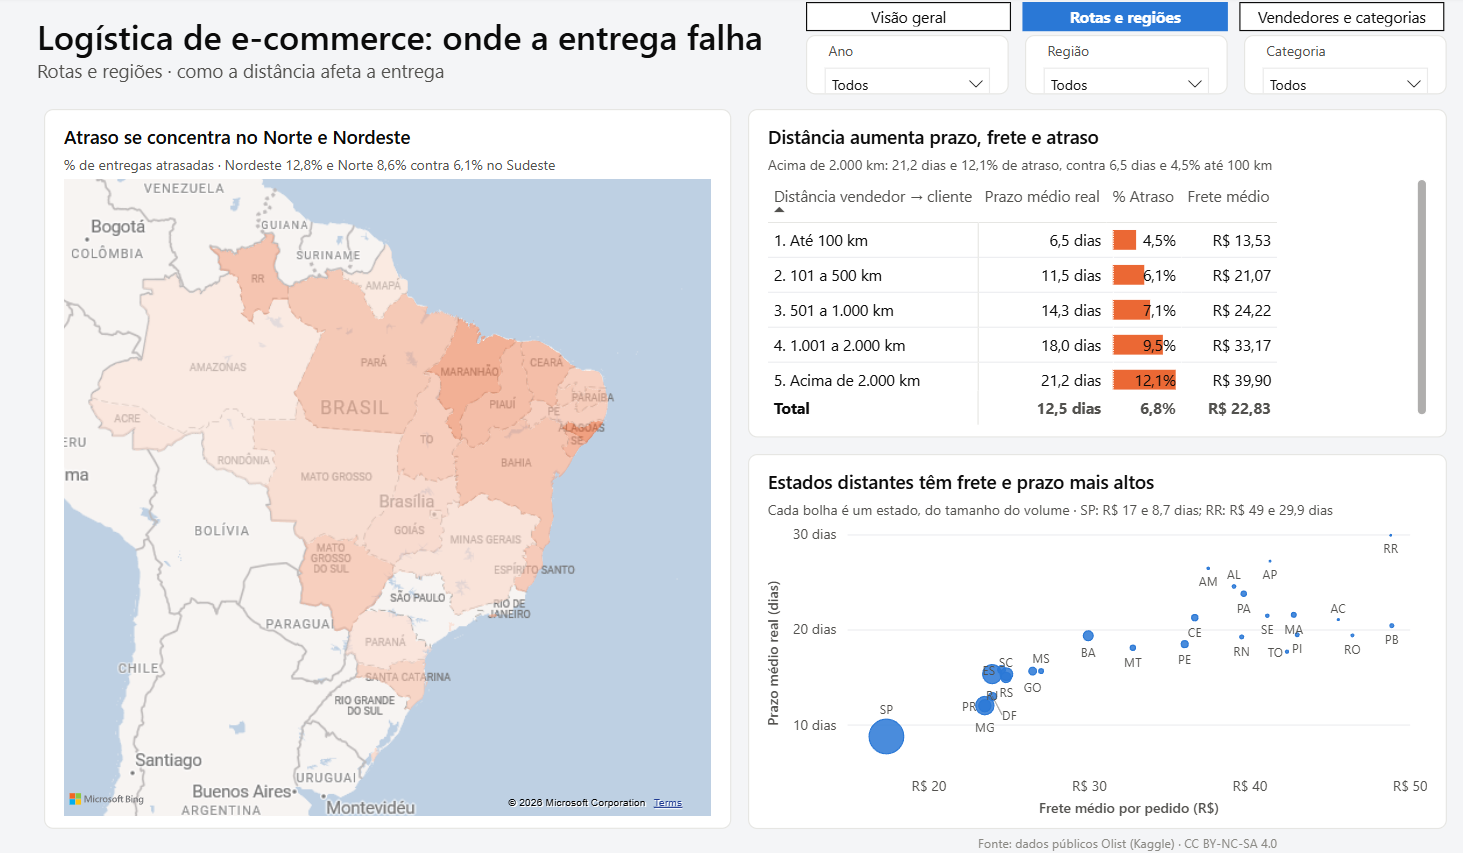

The page's visual inventory and layout, read from the dashboard file:
{"tool":"powerbi","page":{"name":"Rotas e regiões","canvas":[1920,1080],"ordinal":1},"visuals":[{"type":"filledMap","title":"Atraso se concentra no Norte e Nordeste","fields":{"Category":["dim_estado.Local"]},"box":[12.9,135.5,889,943.9],"z":0},{"type":"pivotTable","title":"Distância aumenta prazo, frete e atraso","fields":{"Rows":["fato_pedidos.faixa_distancia"],"Values":["_Medidas.Prazo Médio Real","_Medidas.% Atraso","_Medidas.Frete Médio por Pedido"]},"box":[969.9,195.1,950.1,345],"z":1000},{"type":"scatterChart","title":"Estados distantes têm frete e prazo mais altos","fields":{"Category":["dim_estado.uf"],"Size":["_Medidas.Pedidos Entregues"],"X":["_Medidas.Frete Médio por Pedido"],"Y":["_Medidas.Prazo Médio Real"]},"box":[901.9,574.4,1005.2,492.1],"z":2000},{"type":"textbox","box":[30.7,19.4,713.1,54.9],"z":3000},{"type":"textbox","box":[30.7,74.2,567.9,33.9],"z":4000}]}

Visuals, with their boxes on the page's 1920x1080 design canvas (x1, y1, x2, y2). These are canvas units, not pixel positions in the 1463x853 screenshot, which may show the page scaled, cropped or inside an application window:
"Atraso se concentra no Norte e Nordeste" filledMap: bbox=[13, 136, 902, 1079]
"Distância aumenta prazo, frete e atraso" pivotTable: bbox=[970, 195, 1920, 540]
"Estados distantes têm frete e prazo mais altos" scatterChart: bbox=[902, 574, 1907, 1066]
textbox: bbox=[31, 19, 744, 74]
textbox: bbox=[31, 74, 599, 108]
